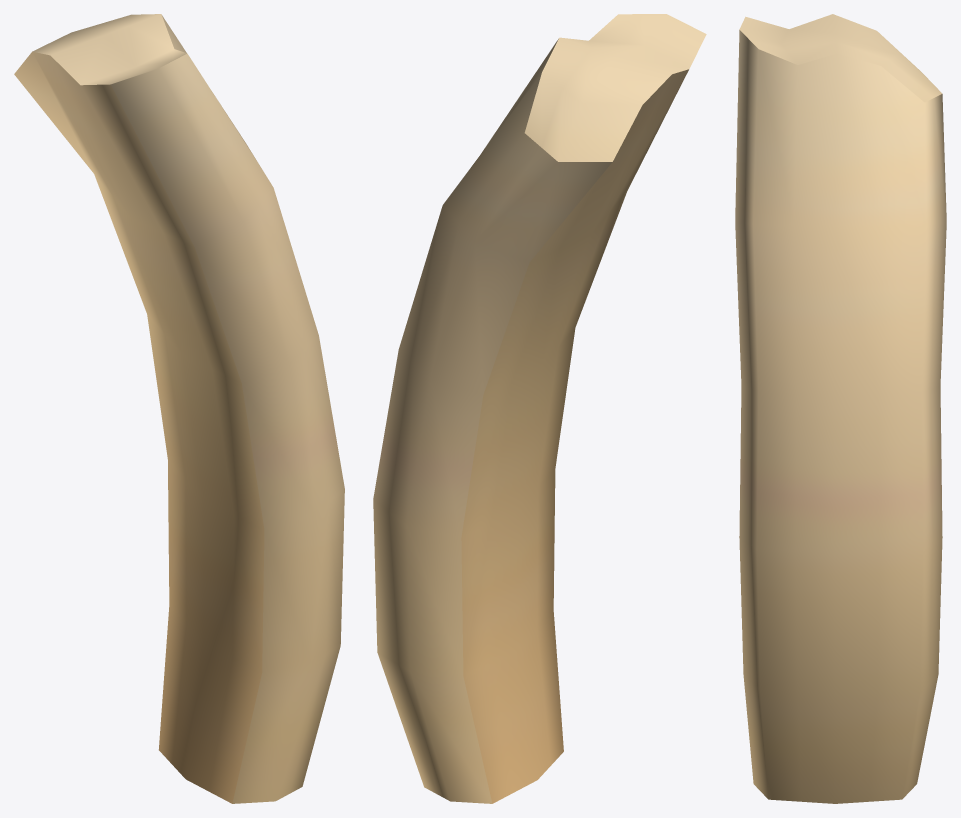
File: Rib5.fbx
The picture shows the model from 3 angles, left to right: view 1: azimuth 30°, elevation 25°; view 2: azimuth 150°, elevation 25°; view 3: azimuth 270°, elevation 25°; orthographic projection. The views are drawn at different scales.
Visible parts, largest first — view 1: pCube3; view 2: pCube3; view 3: pCube3.
Part boxes in pixels (x1=…): pCube3: x1=14, y1=14, x2=344, y2=803; pCube3: x1=373, y1=14, x2=706, y2=803; pCube3: x1=735, y1=14, x2=946, y2=803.
Bounding box in the file's own units: 1.86 × 5.06 × 1.39.
